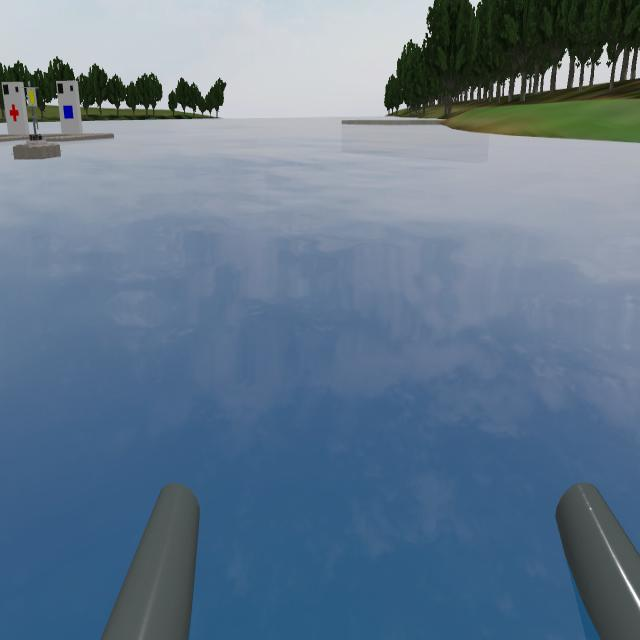yellow_pole: (21, 78, 44, 112)
